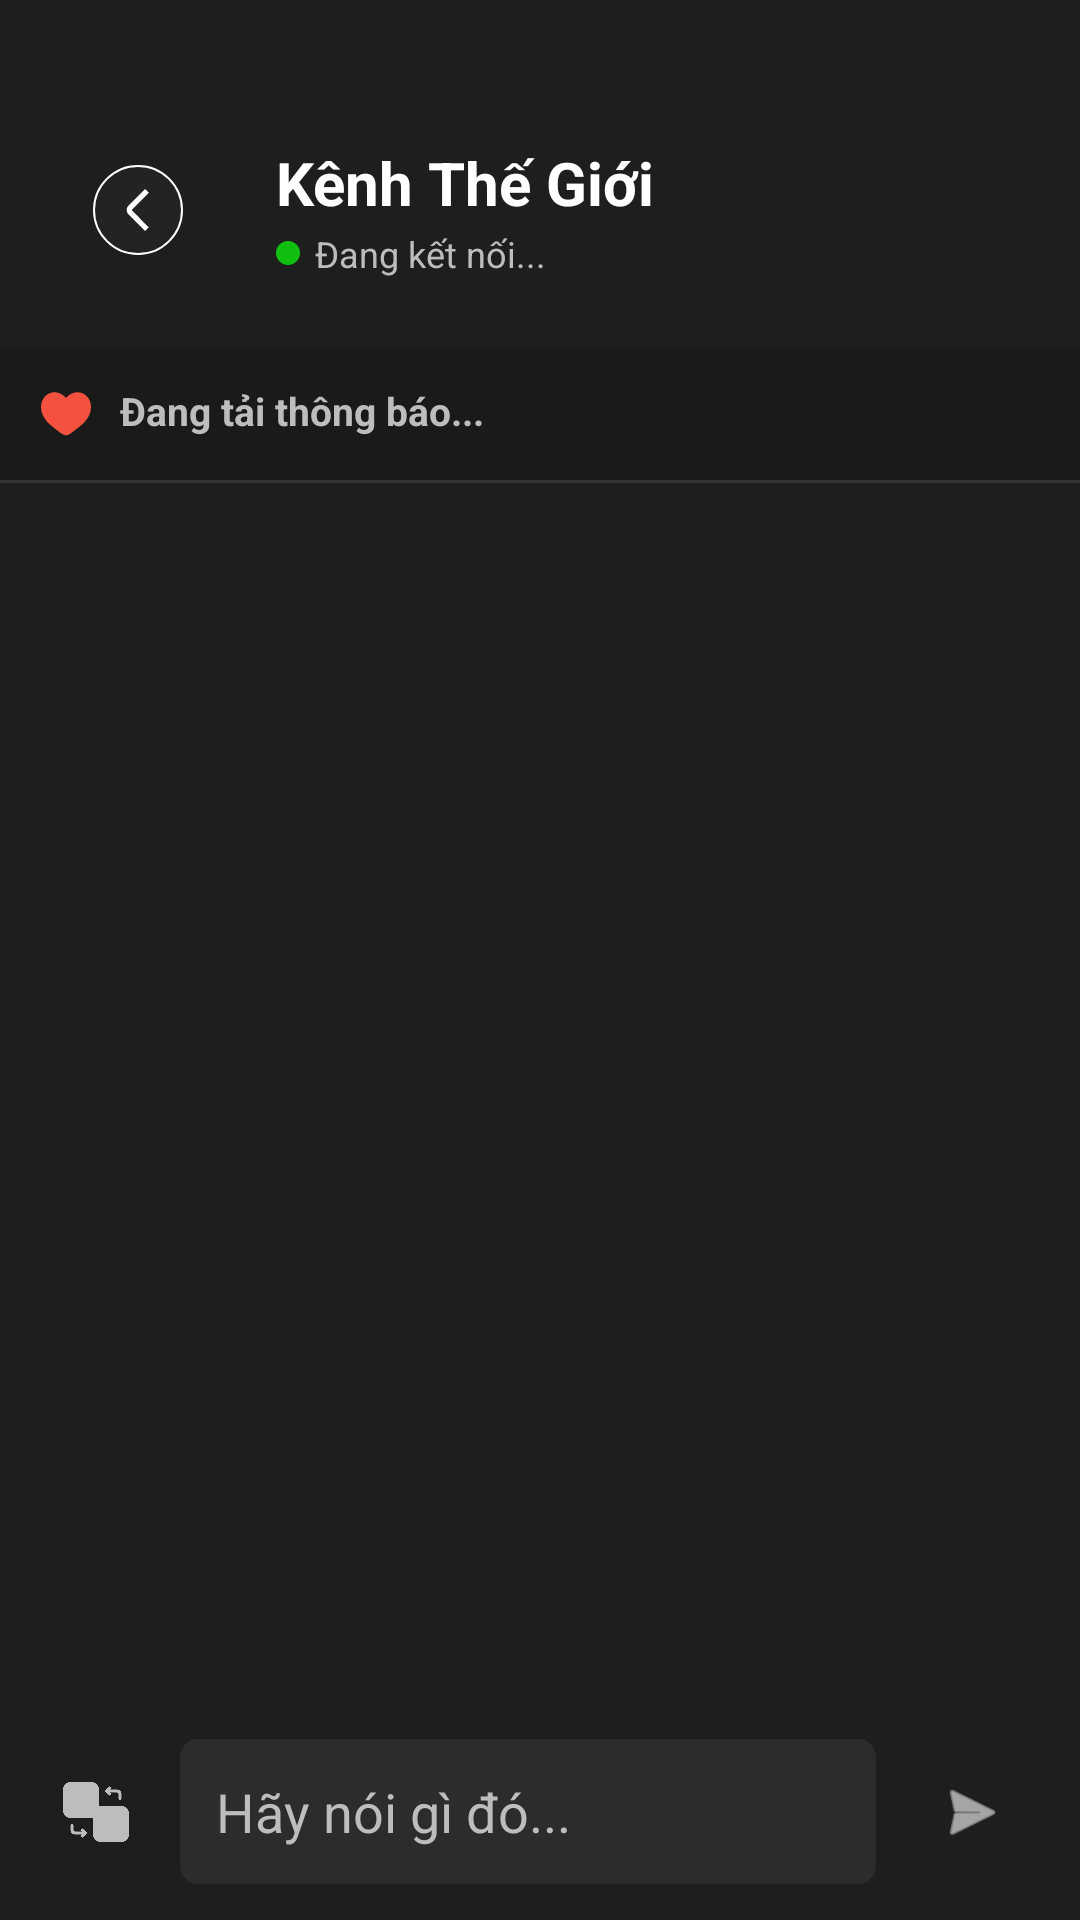

Where to tap for icons on this 1080 x 1920 app screen, as [x,y]:
back: [138,210]
heart: [66,414]
send: [973,1812]
